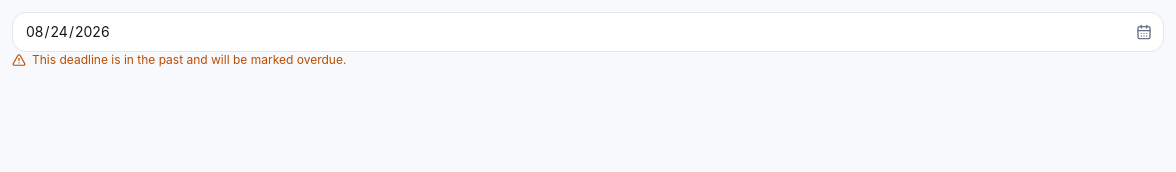
Test: DeadlineInput › removes the warning after a past date is cleared
Expected: the message "This deadline is in the past and will be marked overdue." is shown, [12, 52, 346, 67]
Clear the date field named "Deadline date" at x=588, y=32, box [12, 12, 1164, 52]
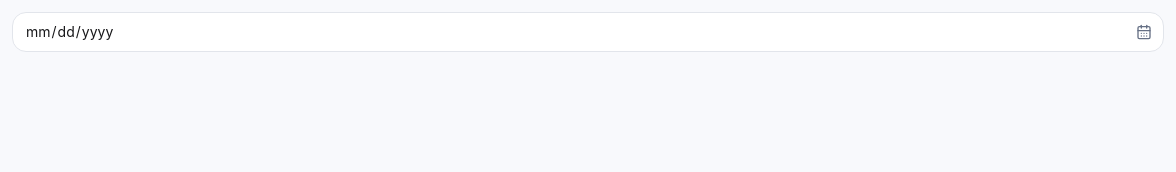
Expected: the message "This deadline is in the past and will be marked overdue." is gone
